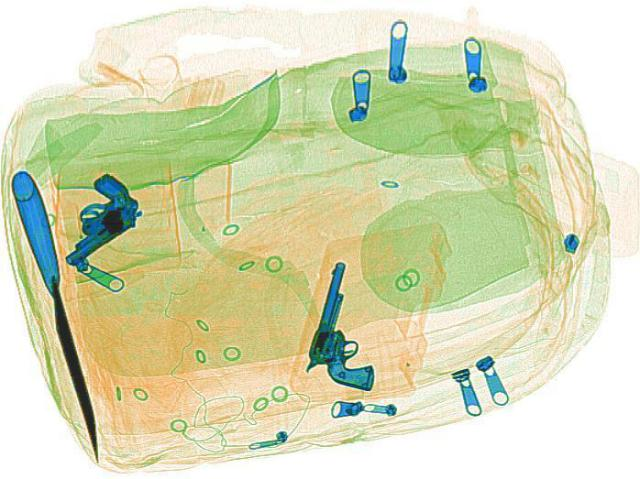Gun: (293, 258, 409, 391), (20, 170, 160, 267)
Knife: (4, 167, 120, 462)
